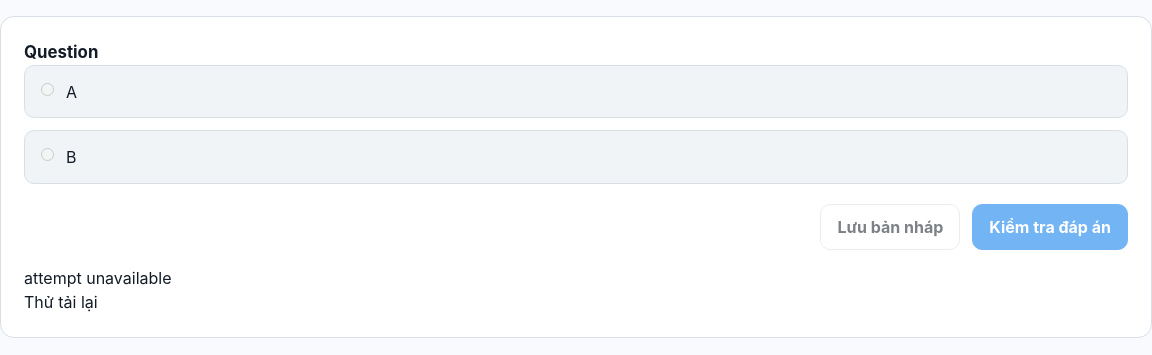
Test: ActivityHost › keeps the activity mounted and retries when loading the attempt fails
The width and height of the screenshot is (1152, 355).
Expected: the message shows "attempt unavailable", 24,268 -> 172,288
Expected: the element "Question" is shown, 24,40 -> 1128,250
Click the button "Thử tải lại": (61, 302) 24,290 -> 98,314
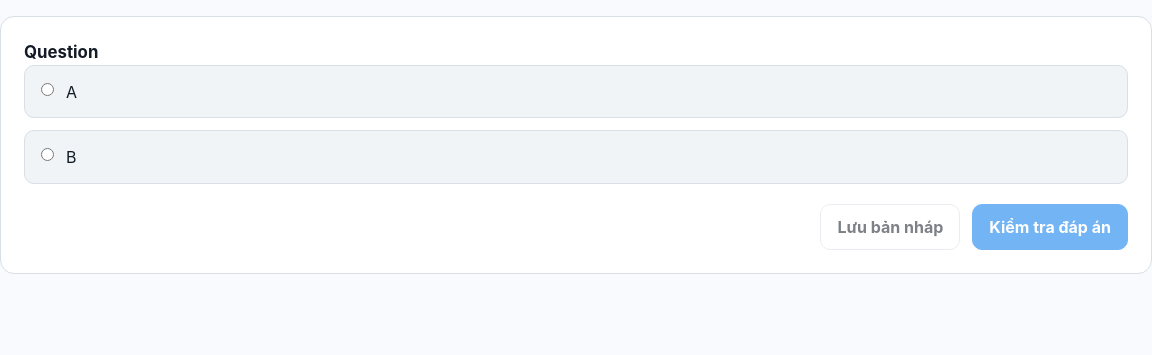
Expected: the button "Thử tải lại" is gone
